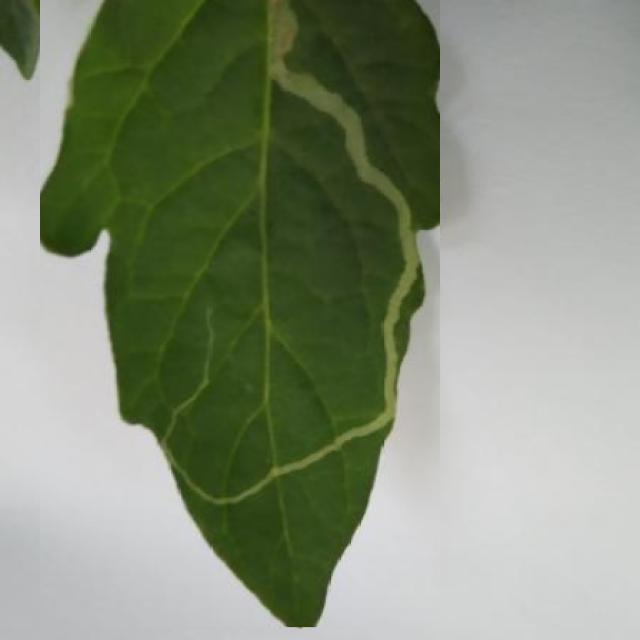Leaf Miner: (40, 0, 440, 627)
